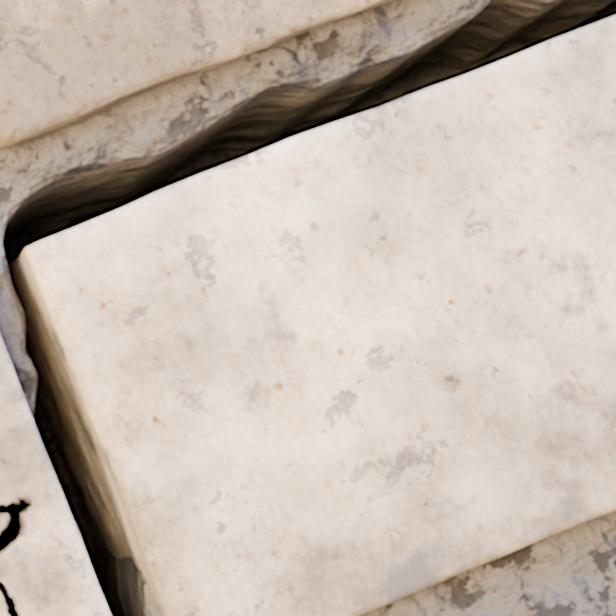brick: (24, 17, 615, 615), (0, 0, 393, 147), (0, 336, 109, 615), (0, 594, 7, 615), (0, 514, 8, 529)
crack: (0, 0, 615, 615), (0, 494, 32, 553), (0, 580, 19, 615)
